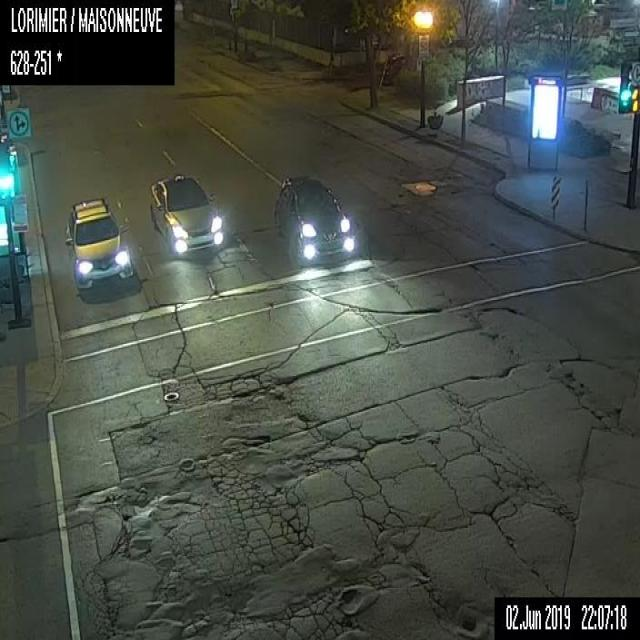vehicle: (272, 175, 354, 266), (64, 196, 136, 299), (147, 174, 225, 254)
